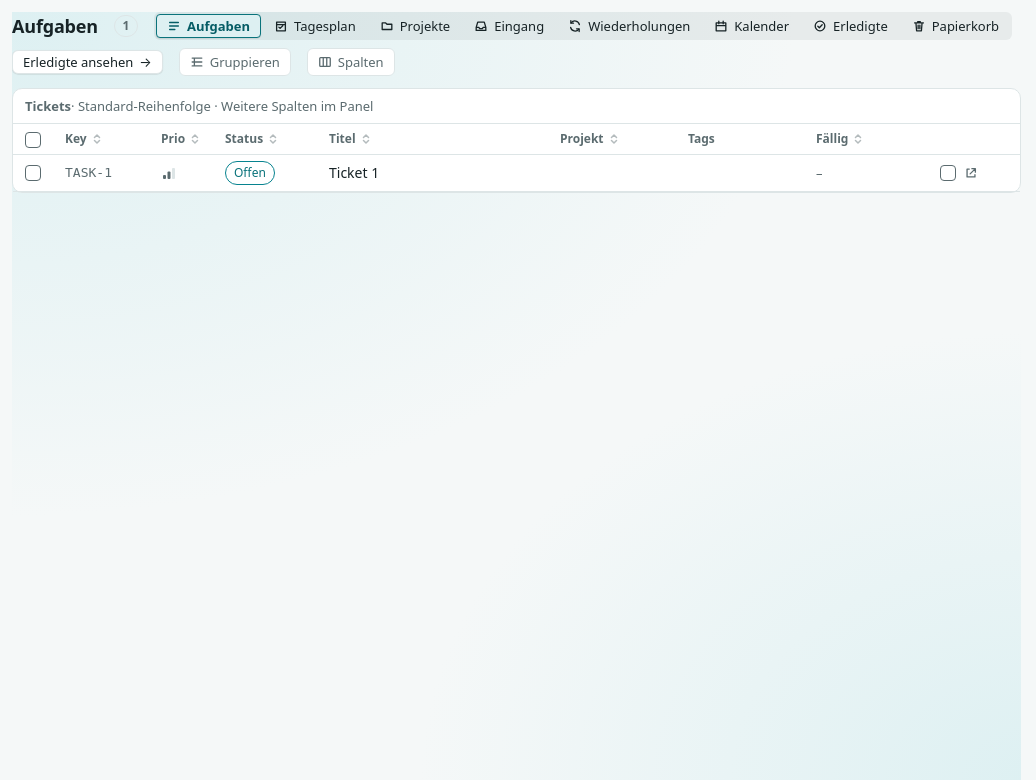
Test: ticket table › offers "Rückgängig" for 8 s, longer while the pointer rests on the flag
The image size is (1036, 780).
Click the checkbox named "TASK-1 erledigt".
click(948, 173)  # box x1=940 y1=165 x2=956 y2=181
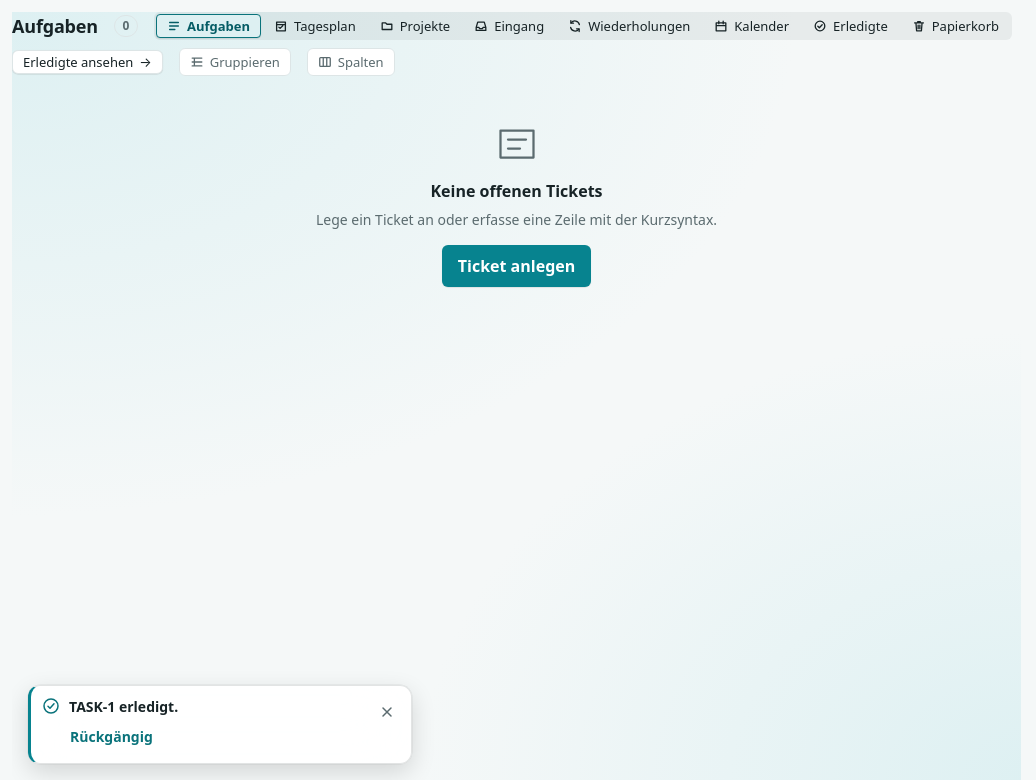
Hover over the element named "Benachrichtigungen".
mouse_move(220, 724)  # box x1=28 y1=685 x2=412 y2=764
expect the button "Rückgängig" is shown: met, box x1=59 y1=720 x2=164 y2=753
Move the pointer off the element named "Benachrichtigungen", box x1=28 y1=685 x2=412 y2=764
Wait 8000 ms
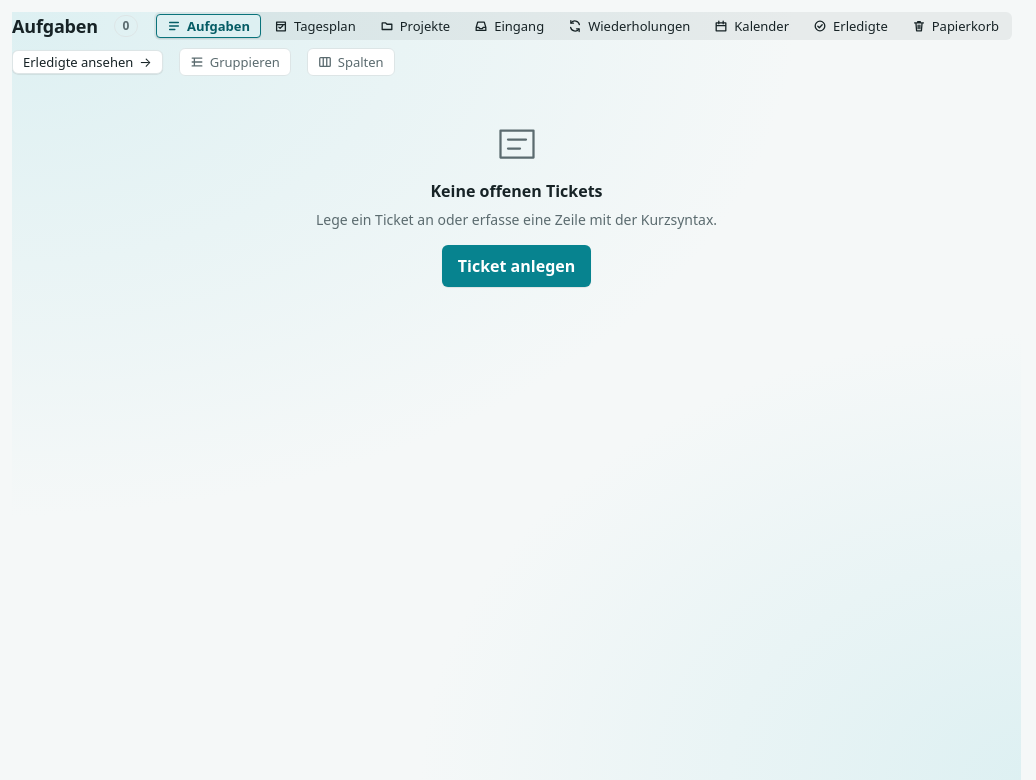
expect the button "Rückgängig" is gone: met
